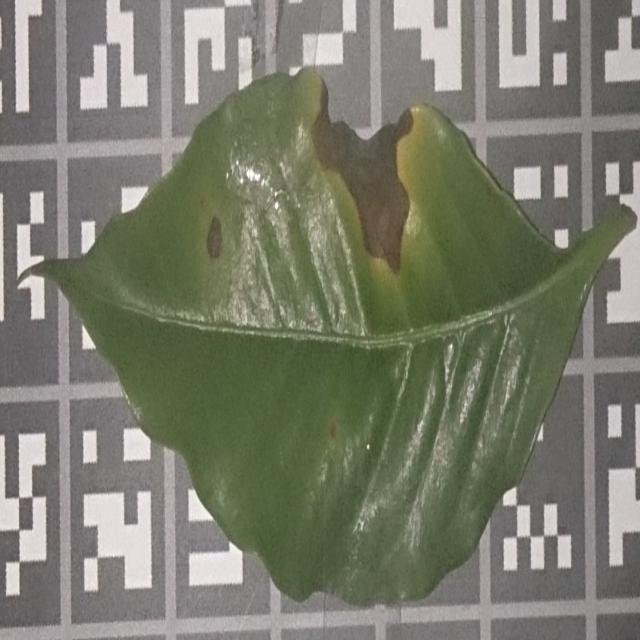Enfermedad-Mancha-de-hierro: (23, 68, 636, 610)
